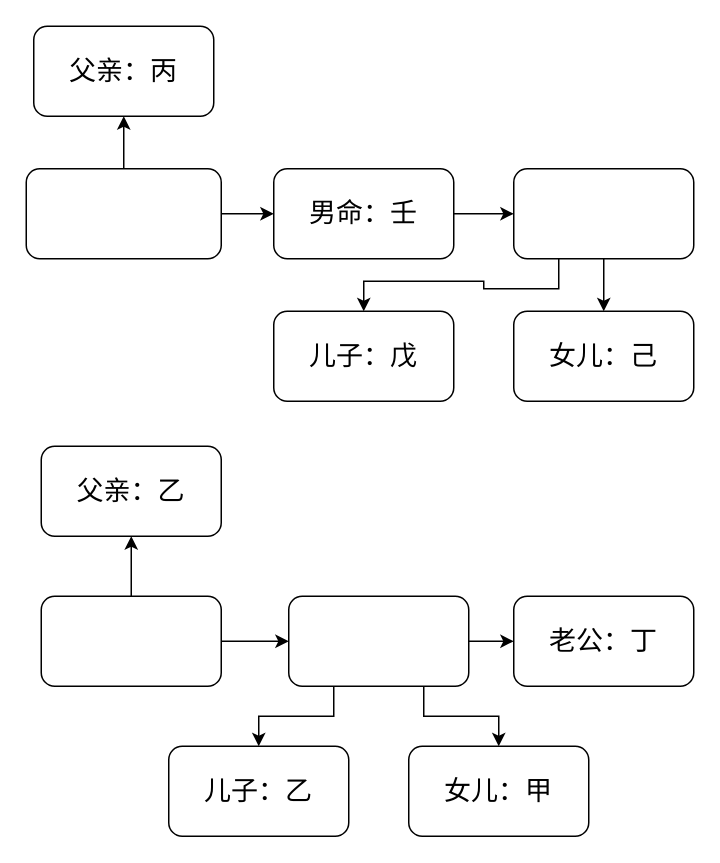
The diagram is 720 pixels wide and 863 high, and some of its shapes have lost their labels. The shapes that lost their labels are listed below. From the top down, each one's centre as x and y in pixels, then its label:
(123,213): 母亲：辛
(603,213): 老婆：丁
(130,640): 母亲：庚
(378,640): 女命：壬
